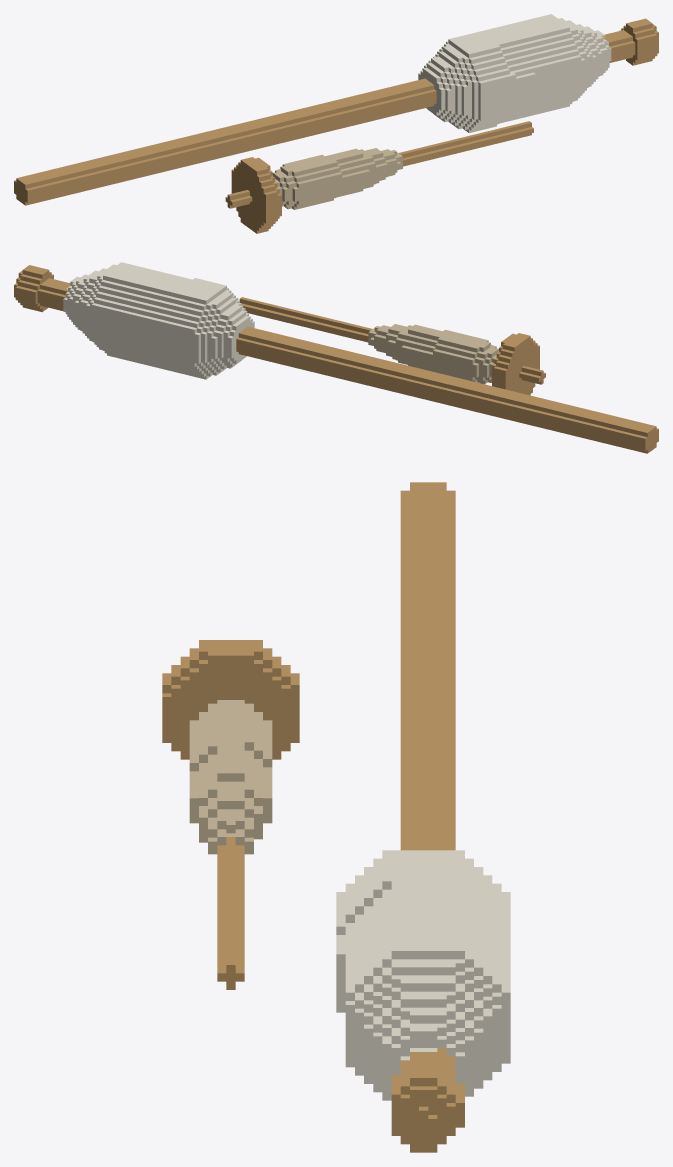
File: distaff_spindle.glb
3 views of the same model, one above another, from view 1: azimuth 30°, elevation 25°; view 2: azimuth 150°, elevation 25°; view 3: azimuth 270°, elevation 25° (orthographic). The views are drawn at different scales.
Parts seen in each view (by area): view 1: distaff_spindle:compound; view 2: distaff_spindle:compound; view 3: distaff_spindle:compound.
Part boxes in pixels (<box>): distaff_spindle:compound: <box>14,14,658,233</box>; distaff_spindle:compound: <box>14,262,658,453</box>; distaff_spindle:compound: <box>162,482,510,1152</box>.
Bounding box in the file's own units: 0.64 × 0.08 × 0.152.
